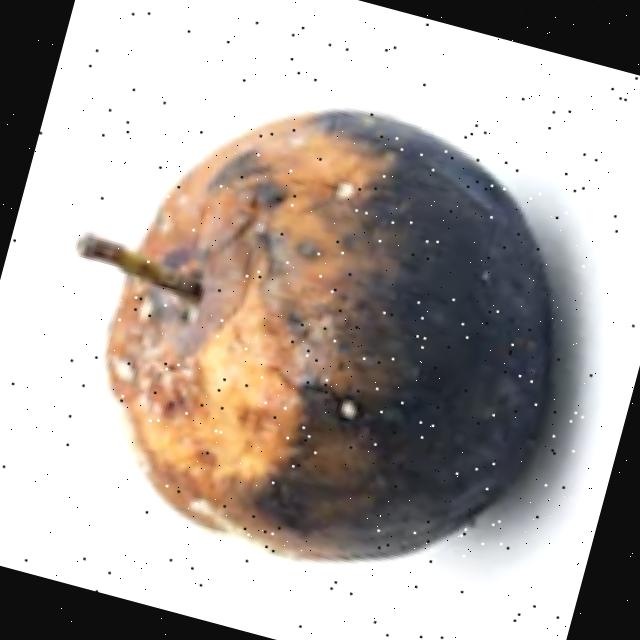Rotten: (54, 52, 616, 619)
